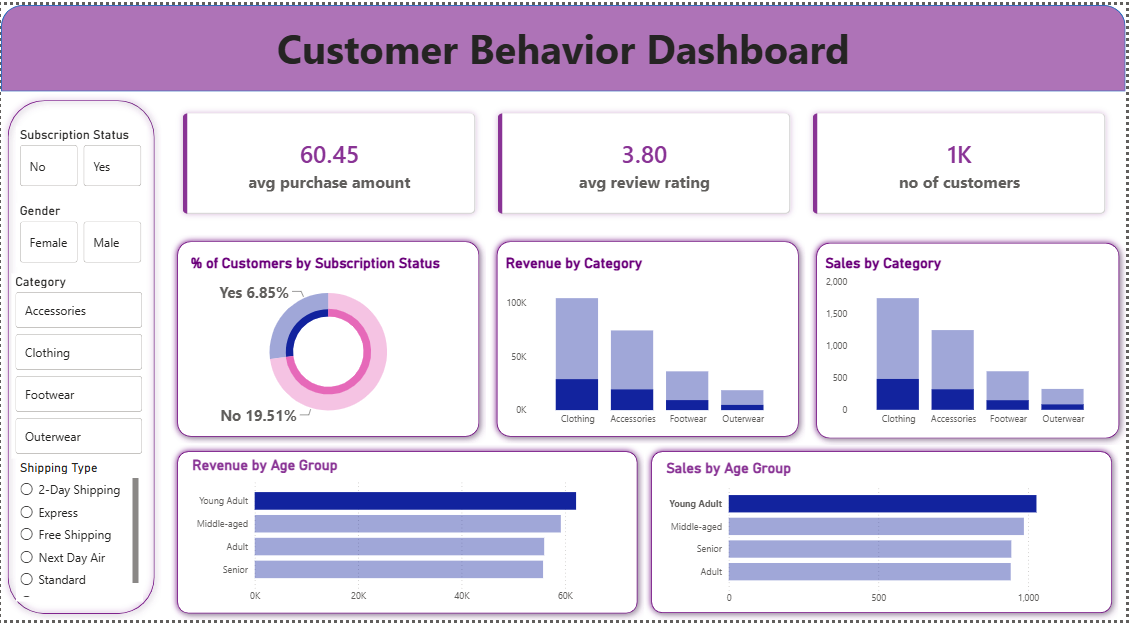

The page's visual inventory and layout, read from the dashboard file:
{"tool":"powerbi","page":{"name":"Page 3","canvas":[1500,820],"ordinal":0},"visuals":[{"type":"cardVisual","fields":{"Data":["public customer.avg purchase amount","public customer.avg review rating","public customer.no of customers"]},"box":[213.8,115.9,1286.2,190.2],"z":0},{"type":"shape","box":[0,0,1499.4,115.3],"z":1},{"type":"textbox","box":[0,16.3,1499.9,99.6],"z":2},{"type":"shape","box":[225.4,307,420.5,278.6],"z":3},{"type":"donutChart","title":"% of Customers by Subscription Status","fields":{"Category":["public customer.subscription_status"],"Y":["CountNonNull(public customer.customer_id)"]},"box":[248.4,331.8,376.2,237.8],"z":4},{"type":"shape","box":[1077.9,308,422.1,279],"z":5},{"type":"shape","box":[652.1,307,420.5,278.6],"z":6},{"type":"clusteredColumnChart","title":"Revenue by Category","fields":{"Y":["Sum(public customer.purchase_amount)"],"Category":["public customer.category"]},"box":[667.2,331.8,385.1,237.8],"z":7},{"type":"clusteredColumnChart","title":"Sales by Category","fields":{"Y":["CountNonNull(public customer.customer_id)"],"Category":["public customer.category"]},"box":[1094.2,331.5,385.9,237.3],"z":8},{"type":"shape","box":[0,117.7,213.8,702.9],"z":9},{"type":"advancedSlicerVisual","fields":{"Values":["public customer.subscription_status"]},"box":[19.5,161.5,173.9,85.2],"z":10},{"type":"advancedSlicerVisual","fields":{"Values":["public customer.gender"]},"box":[19.5,264.4,173.9,85.2],"z":11},{"type":"advancedSlicerVisual","fields":{"Values":["public customer.category"]},"box":[14.5,358.7,179.3,246.4],"z":12},{"type":"listSlicer","fields":{"Values":["public customer.shipping_type"]},"box":[19.9,605.1,168.5,188.4],"z":13},{"type":"shape","box":[858.7,585.1,632.2,233.7],"z":14},{"type":"clusteredBarChart","title":"Sales by Age Group","fields":{"Y":["CountNonNull(public customer.customer_id)"],"Category":["public customer.age_group"]},"box":[882.2,605.1,586.9,202.9],"z":15},{"type":"group","id":"g1","title":"Group 1","box":[226.4,585.1,632.2,233.7],"z":16},{"type":"shape","box":[226.4,585.1,631.7,234.2],"z":2500,"group":"g1"},{"type":"clusteredBarChart","title":"Revenue by Age Group","fields":{"Y":["Sum(public customer.purchase_amount)"],"Category":["public customer.age_group"]},"box":[249.5,601.1,585.6,204.1],"z":17500,"group":"g1"}]}

Visuals, with their boxes in screenshot pixels (x1, y1, x2, y2), scaled from the page's 1500x820 canvas onto the 1131x627 screenshot:
cardVisual - public customer.avg purchase amount x public customer.avg review rating: locate(161, 89, 1130, 234)
shape: locate(0, 0, 1130, 88)
textbox: locate(0, 12, 1130, 89)
shape: locate(170, 235, 487, 448)
"% of Customers by Subscription Status" donutChart: locate(187, 254, 471, 436)
shape: locate(813, 236, 1130, 449)
shape: locate(492, 235, 809, 448)
"Revenue by Category" clusteredColumnChart: locate(503, 254, 793, 436)
"Sales by Category" clusteredColumnChart: locate(825, 253, 1116, 435)
shape: locate(0, 90, 161, 626)
advancedSlicerVisual - public customer.subscription_status: locate(15, 123, 146, 189)
advancedSlicerVisual - public customer.gender: locate(15, 202, 146, 267)
advancedSlicerVisual - public customer.category: locate(11, 274, 146, 463)
listSlicer - public customer.shipping_type: locate(15, 463, 142, 607)
shape: locate(647, 447, 1124, 626)
"Sales by Age Group" clusteredBarChart: locate(665, 463, 1108, 618)
"Group 1" group: locate(171, 447, 647, 626)
shape: locate(171, 447, 647, 626)
"Revenue by Age Group" clusteredBarChart: locate(188, 460, 630, 616)
